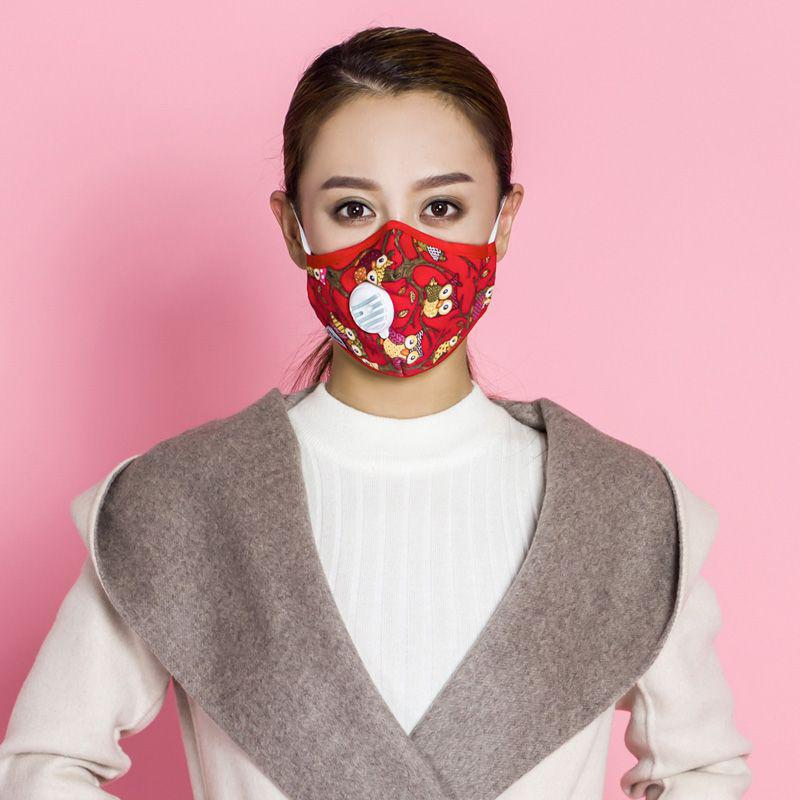OK: (298, 161, 511, 374)
